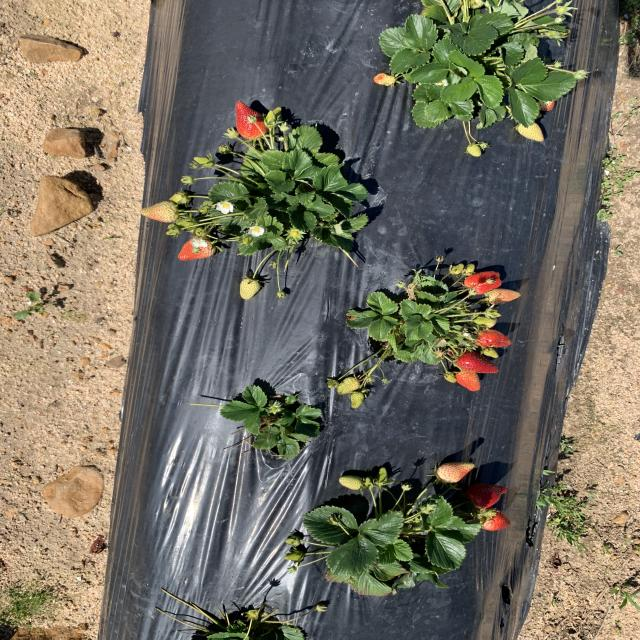unripe: (234, 100, 267, 138), (467, 482, 510, 509), (456, 350, 498, 374), (464, 270, 503, 294), (178, 238, 217, 260), (474, 511, 514, 531), (476, 328, 514, 347), (454, 370, 481, 392)
